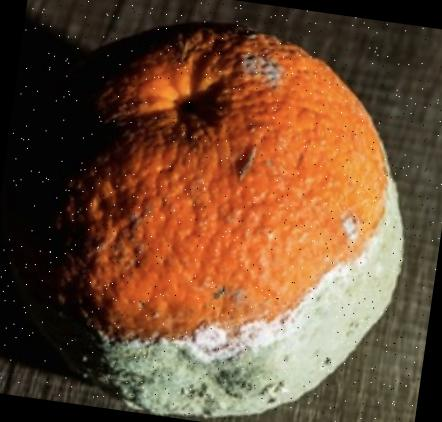Orange Rotten: (12, 1, 439, 422)
